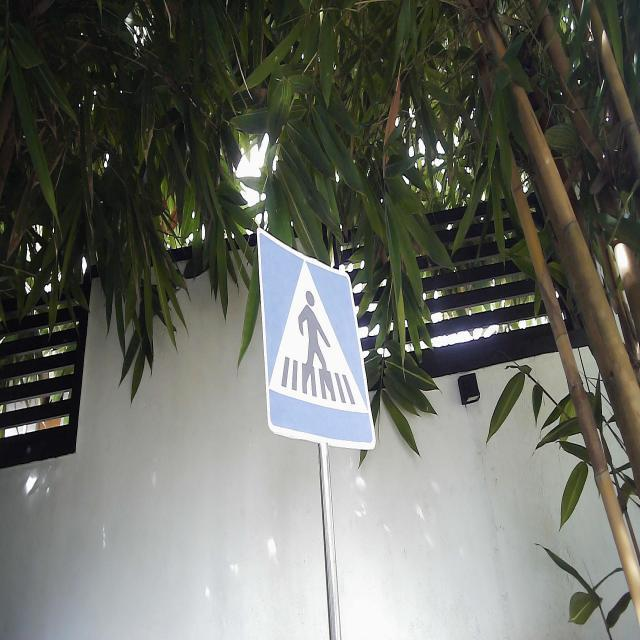crosswalk_sign: (255, 226, 377, 453)
